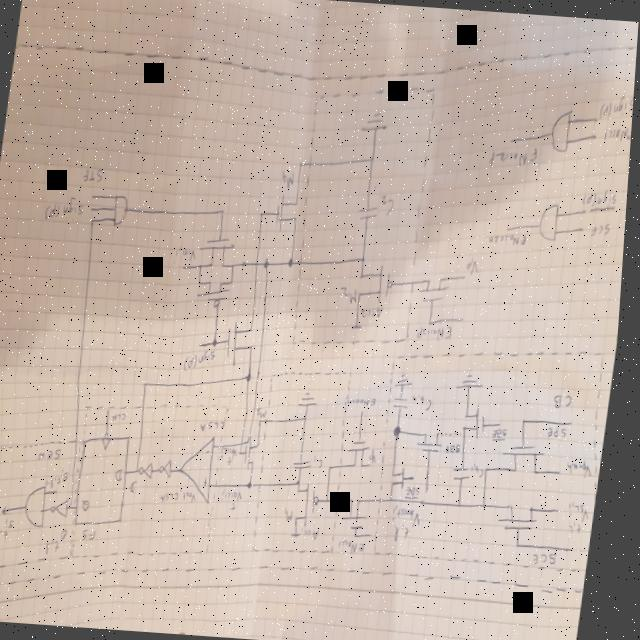capacitor: (358, 202, 382, 224), (458, 464, 477, 482), (299, 457, 319, 472), (397, 396, 415, 410)
crossover: (257, 260, 262, 268), (246, 441, 249, 447)
ground: (362, 110, 393, 136), (463, 372, 489, 390), (399, 372, 420, 390), (303, 392, 324, 408)
junction: (266, 258, 274, 270), (290, 257, 298, 269), (398, 425, 406, 436), (252, 480, 260, 490), (370, 154, 378, 164), (221, 208, 229, 216), (521, 542, 529, 550), (363, 256, 370, 264), (216, 339, 223, 347), (487, 502, 494, 509), (527, 418, 533, 426), (331, 496, 337, 504), (251, 374, 257, 382), (233, 263, 239, 270), (261, 210, 266, 218), (463, 502, 469, 508), (308, 416, 314, 422), (148, 381, 153, 387), (202, 264, 207, 270), (301, 161, 305, 168), (360, 534, 365, 539), (395, 497, 399, 503), (303, 480, 307, 486), (94, 218, 98, 224), (202, 280, 206, 286), (76, 504, 80, 510), (432, 320, 436, 326), (334, 465, 337, 471), (234, 278, 237, 284), (251, 440, 255, 444), (264, 420, 267, 424), (245, 452, 247, 456)
source: (354, 322, 367, 330), (298, 532, 308, 539)
terminal: (7, 505, 16, 516), (509, 136, 518, 146), (430, 484, 438, 494), (507, 226, 515, 233), (416, 473, 423, 481), (111, 408, 116, 416), (93, 192, 98, 200), (92, 206, 97, 213), (575, 548, 580, 554), (583, 226, 587, 233), (185, 264, 189, 270), (561, 510, 565, 516), (563, 469, 567, 475), (574, 421, 578, 427), (502, 422, 506, 428), (61, 489, 65, 495), (464, 316, 468, 322), (466, 274, 470, 280), (595, 135, 599, 141), (375, 532, 378, 538), (366, 411, 370, 415), (202, 344, 206, 348), (585, 210, 589, 214), (376, 464, 378, 468), (596, 120, 598, 124)
text: (488, 143, 543, 172), (394, 504, 431, 544), (45, 192, 88, 224), (571, 501, 597, 536), (187, 348, 221, 374), (602, 95, 635, 121), (583, 187, 620, 210), (419, 322, 459, 343), (164, 486, 205, 506), (50, 526, 76, 557), (49, 466, 78, 490), (0, 516, 23, 546), (604, 123, 634, 145), (225, 488, 252, 512), (571, 460, 601, 480), (490, 232, 530, 247), (556, 388, 580, 411), (176, 244, 201, 266), (43, 444, 69, 464), (537, 551, 565, 569), (224, 444, 245, 468), (415, 393, 439, 412), (344, 538, 372, 554), (205, 418, 232, 434), (381, 193, 398, 218), (84, 166, 106, 184), (467, 253, 484, 276), (363, 305, 387, 321), (592, 222, 614, 239), (352, 396, 383, 408), (343, 286, 362, 304), (496, 426, 514, 444), (475, 462, 492, 481), (410, 485, 428, 501), (552, 426, 574, 439), (283, 170, 298, 188), (88, 527, 104, 543), (310, 528, 326, 542), (116, 411, 133, 424), (290, 506, 302, 524), (450, 442, 467, 454), (318, 454, 330, 470), (87, 498, 97, 514), (374, 448, 384, 463), (262, 406, 273, 419), (122, 468, 131, 482), (209, 476, 217, 489), (136, 480, 143, 494), (211, 449, 217, 457)
transistor: (506, 439, 553, 476), (226, 320, 262, 368), (504, 496, 547, 536), (360, 264, 400, 304), (199, 234, 239, 270), (274, 190, 306, 234), (299, 482, 329, 528), (199, 276, 237, 310), (347, 492, 378, 533), (466, 402, 495, 439), (350, 436, 376, 474), (422, 276, 453, 306), (420, 429, 451, 458), (247, 433, 267, 472), (396, 464, 415, 490)
